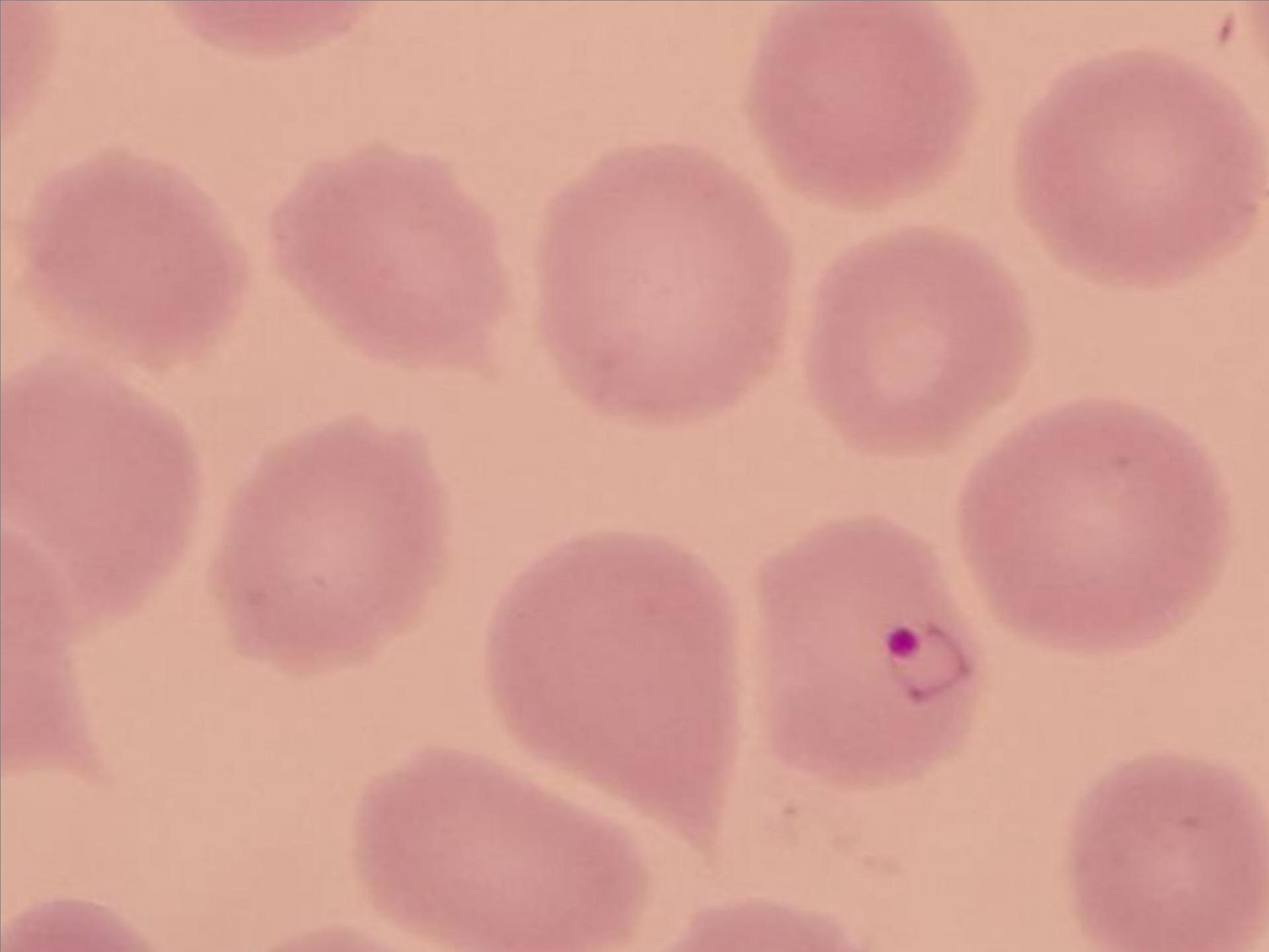Infected: (752, 517, 984, 785)
Uninfected: (487, 529, 746, 865), (537, 142, 795, 427), (958, 398, 1226, 654), (215, 412, 450, 680), (1013, 45, 1255, 285), (355, 753, 646, 952), (0, 362, 201, 623), (273, 149, 504, 371), (805, 228, 1027, 454), (20, 147, 246, 357), (747, 0, 978, 205), (1079, 752, 1269, 952)
